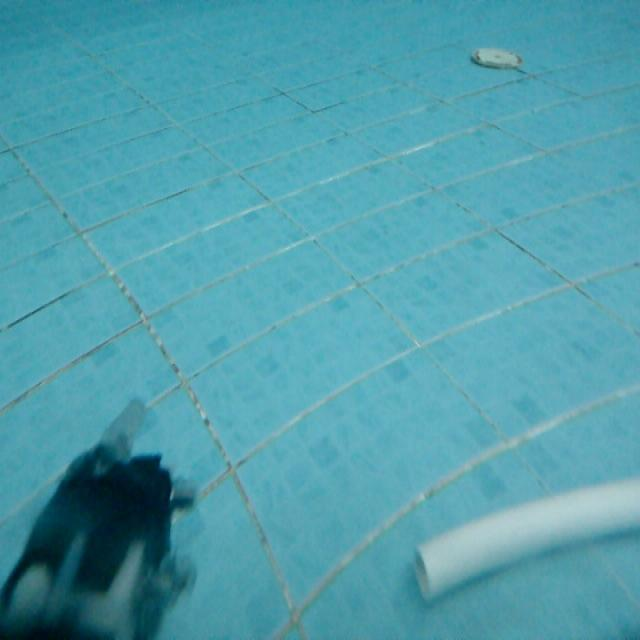Cube: (410, 466, 639, 606)
